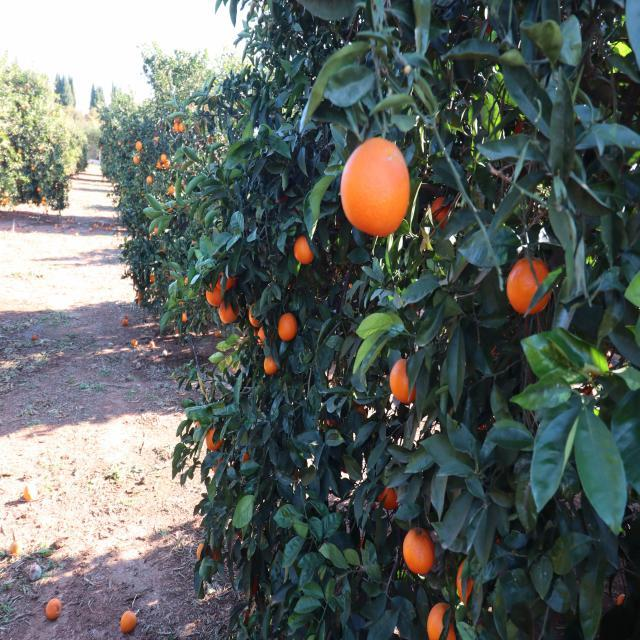Jeruk Sudah Matang: (340, 136, 412, 238), (506, 254, 554, 318), (402, 526, 438, 576), (389, 354, 421, 406), (426, 598, 460, 640), (431, 189, 462, 228), (456, 556, 478, 604), (376, 480, 402, 518), (278, 310, 304, 343), (292, 234, 317, 265), (218, 296, 242, 327), (238, 438, 260, 471), (322, 406, 343, 440), (246, 300, 268, 328), (206, 424, 228, 452), (208, 449, 226, 476), (353, 398, 368, 430), (262, 354, 280, 380), (218, 266, 236, 290), (206, 282, 222, 306), (192, 412, 208, 436), (258, 326, 272, 350), (148, 272, 160, 284), (181, 310, 190, 324), (207, 134, 217, 146), (178, 299, 187, 309), (138, 289, 146, 299), (152, 136, 160, 146), (134, 155, 142, 165), (180, 123, 187, 134), (135, 141, 143, 150), (154, 225, 161, 235), (138, 298, 145, 308), (173, 114, 180, 124), (160, 154, 168, 162), (164, 160, 172, 168), (186, 276, 193, 285), (168, 185, 175, 194), (166, 205, 172, 215), (148, 174, 154, 183), (186, 202, 191, 212), (174, 124, 180, 132), (18, 146, 24, 154), (117, 140, 123, 147), (158, 160, 162, 170), (42, 200, 48, 206), (130, 128, 136, 134), (31, 165, 36, 171), (38, 185, 42, 192), (99, 146, 105, 150)
